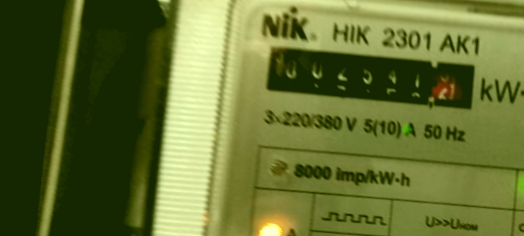0: (281, 54, 301, 82), (309, 54, 326, 82)
1: (408, 62, 424, 91)
2: (333, 57, 351, 83)
4: (385, 61, 400, 85)
5: (358, 58, 378, 88)
6: (434, 82, 451, 102)
screen: (252, 29, 492, 124)
